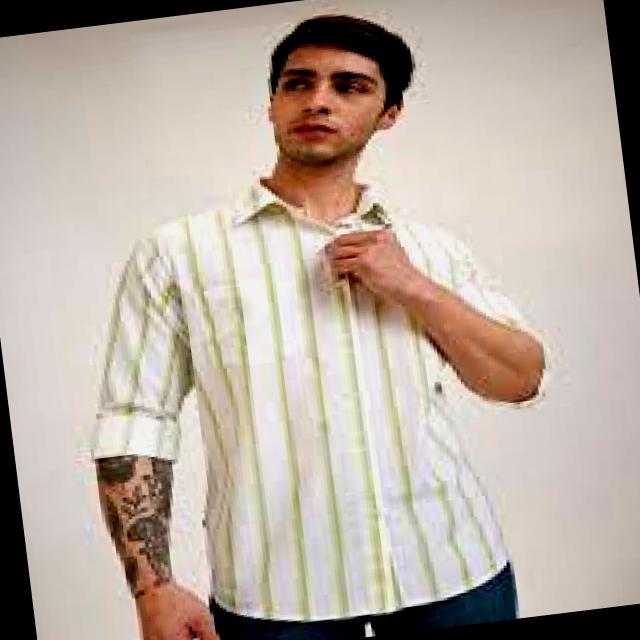face: (267, 43, 399, 166)
lower-wear: (208, 563, 517, 639)
top-wear: (89, 178, 537, 621)
